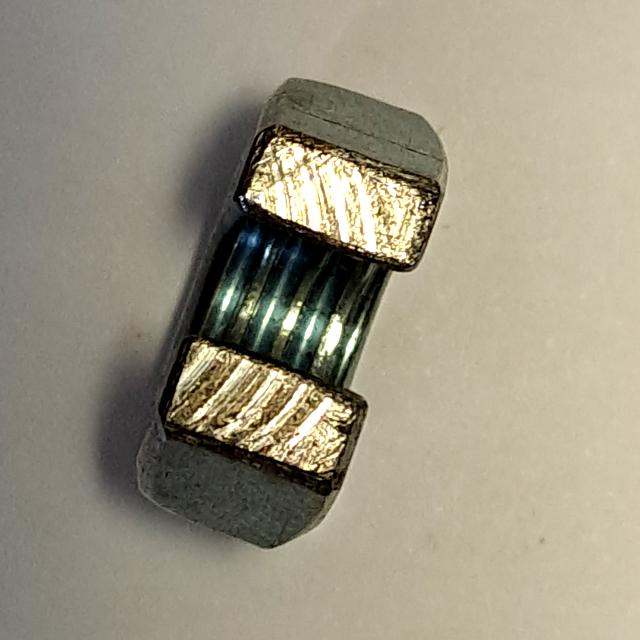Side-Fracture: (113, 62, 463, 566)
